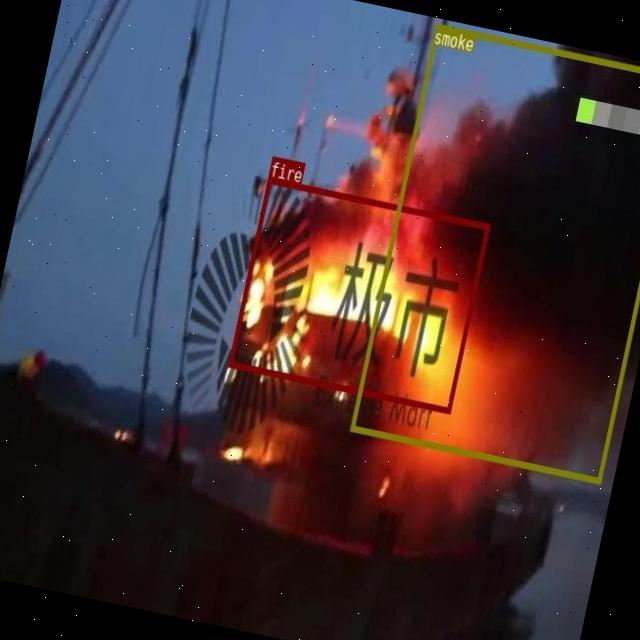fire: (227, 176, 488, 413)
smoke: (350, 22, 640, 483)
